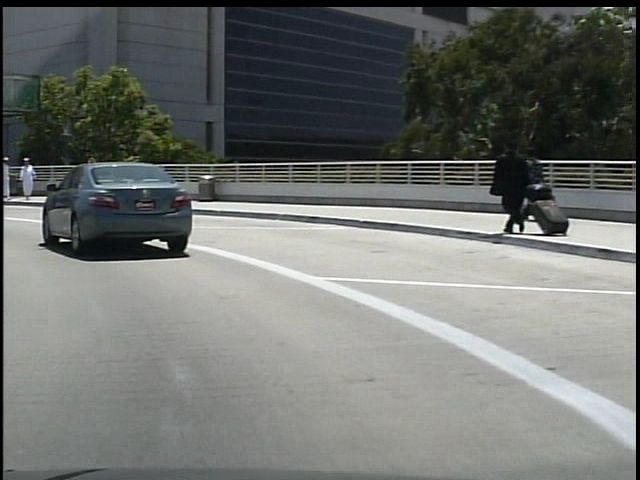person: (485, 138, 527, 232), (511, 146, 544, 231), (15, 155, 35, 200)
